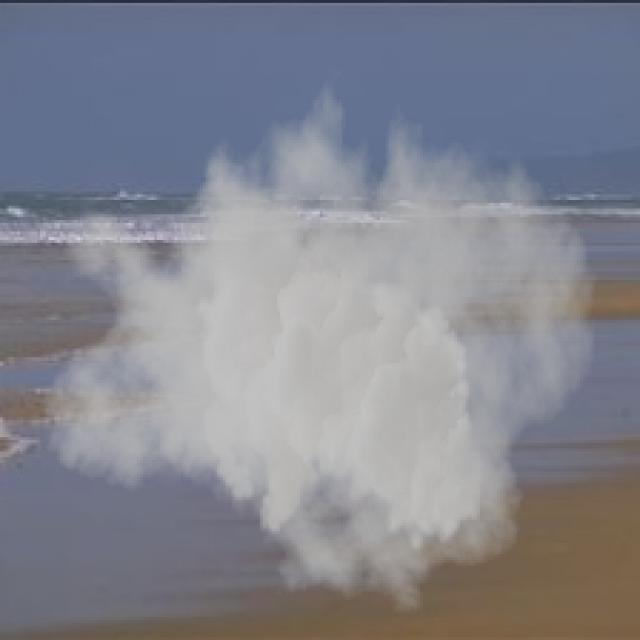smoke: (40, 57, 597, 614)
